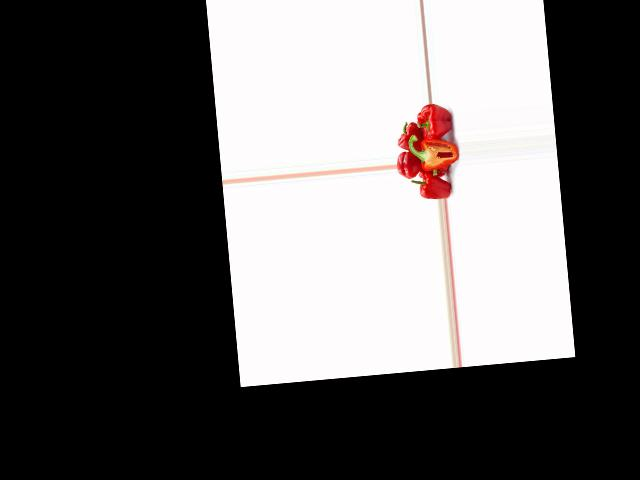bell_pepper: (395, 120, 422, 152)
